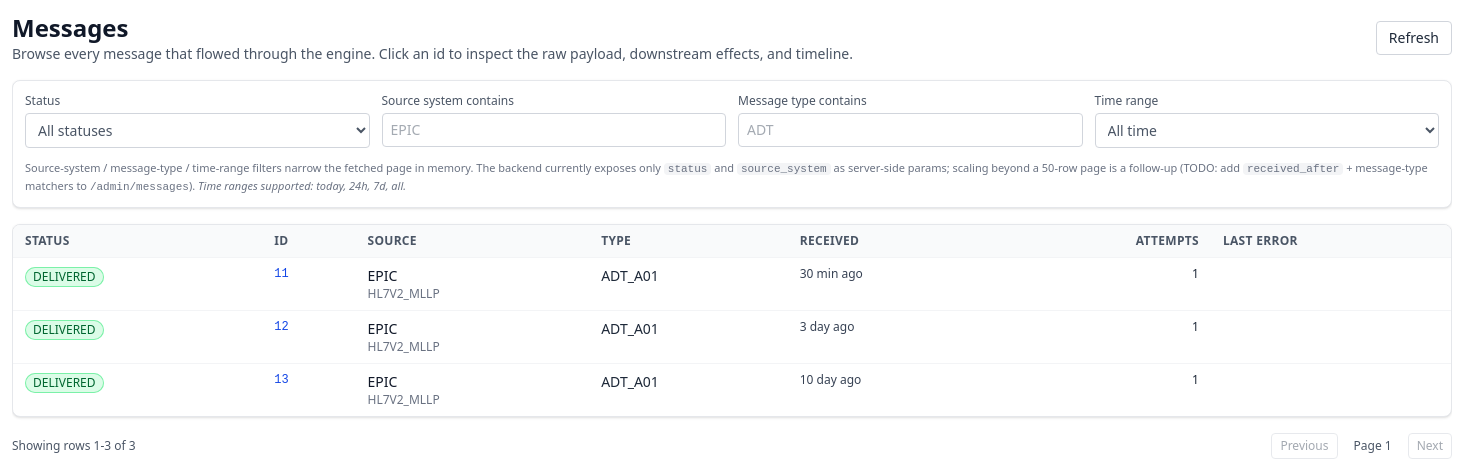
MessagesListView (ticket #402) › the time-range filter narrows rendered rows (client-side)
Expected: the row with test id "messages-row-11" is shown, [13, 258, 1451, 310]
Expected: the row with test id "messages-row-12" is shown, [13, 310, 1451, 364]
// Narrow to last 24h.
Select "Last 24h" in the dropdown with test id "messages-filter-time" at (1267, 130), box [1094, 113, 1439, 148]
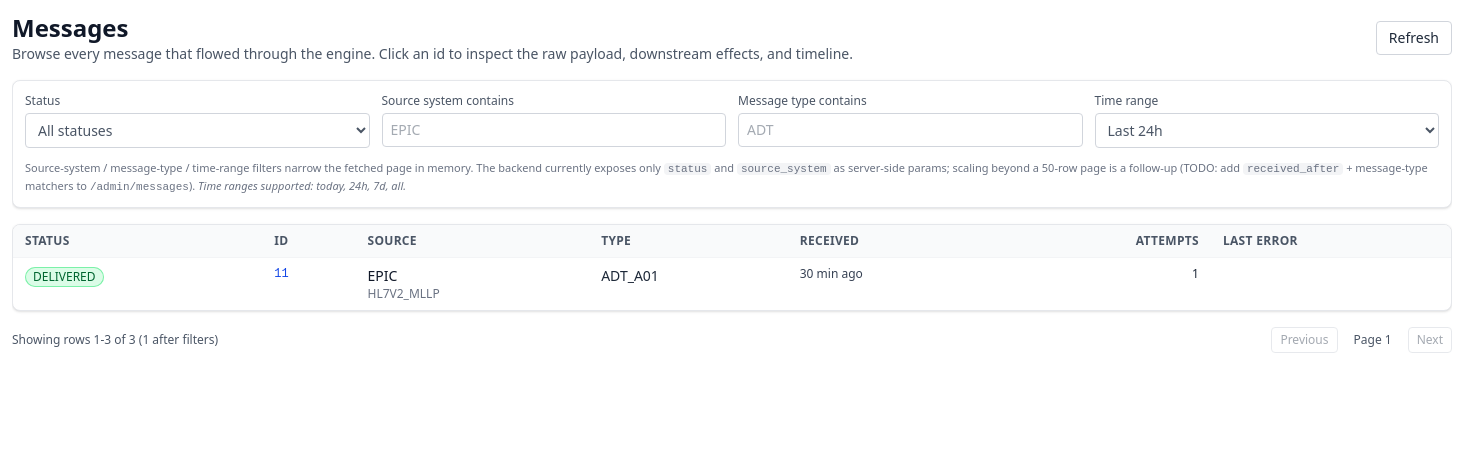
Expected: the row with test id "messages-row-11" is shown, [13, 258, 1451, 310]
Expected: the row with test id "messages-row-12" is gone
Expected: the row with test id "messages-row-13" is gone
